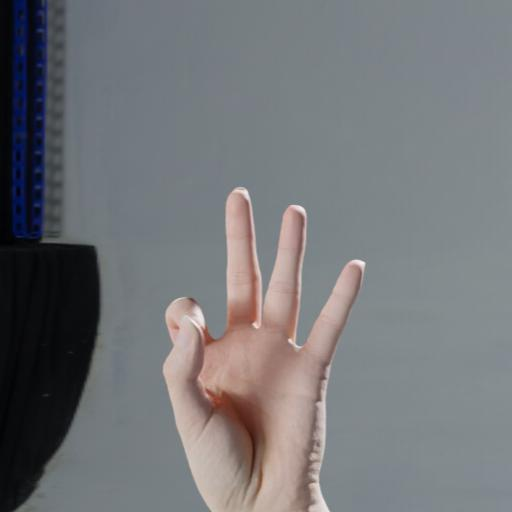F: (148, 175, 391, 512)
